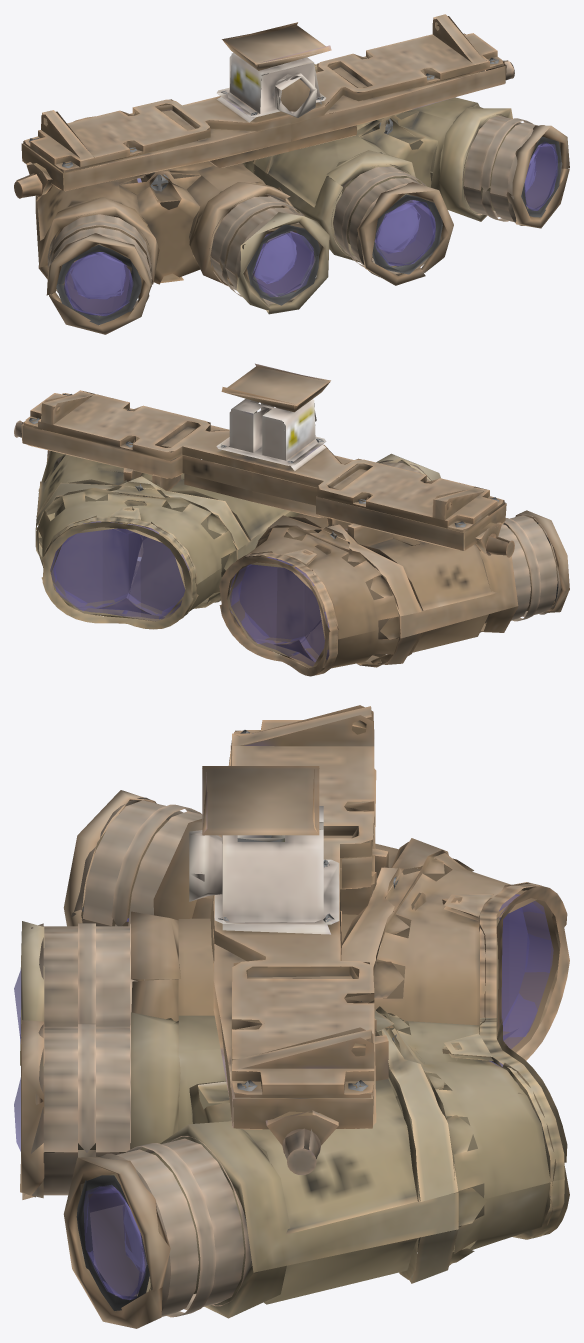
File: SM_quad_night_vision_goggle.glb
3 views of the same model, one above another, from view 1: azimuth 30°, elevation 25°; view 2: azimuth 150°, elevation 25°; view 3: azimuth 270°, elevation 25° (orthographic). The views are drawn at different scales.
Parts seen in each view (by area): view 1: SM_quad_night_vision_goggle; view 2: SM_quad_night_vision_goggle; view 3: SM_quad_night_vision_goggle.
Boxes of the visible parts, x1,y1,x2,y2 form: SM_quad_night_vision_goggle: [14, 14, 569, 334]; SM_quad_night_vision_goggle: [14, 363, 569, 676]; SM_quad_night_vision_goggle: [14, 705, 569, 1328].
Size of the model in its own units: 0.3066 by 0.1236 by 0.1673.
Materials: 1 (1 with a texture image).
